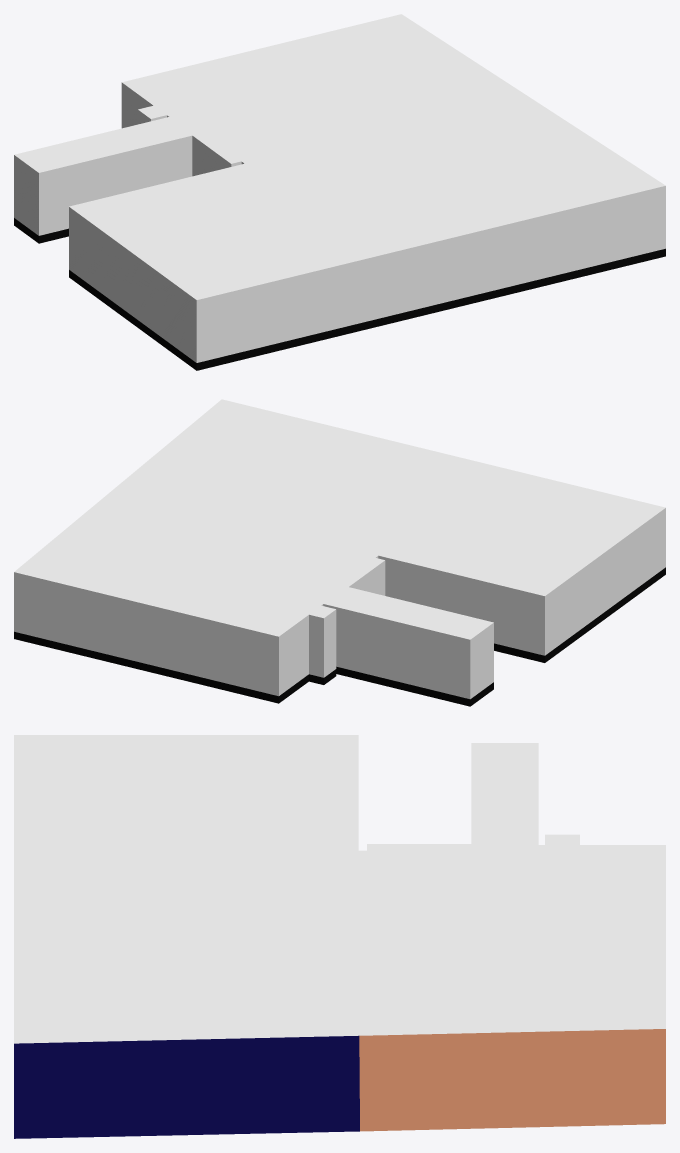
Rendered from Floor7.fbx.
The picture shows the model from 3 angles, top to bottom: view 1: azimuth 30°, elevation 25°; view 2: azimuth 150°, elevation 25°; view 3: azimuth 270°, elevation 25°; orthographic projection. The views are drawn at different scales.
Visible parts, largest first — view 1: Plane; view 2: Plane; view 3: Plane.
Boxes of the visible parts, x1=… form: Plane: x1=14, y1=14, x2=665, y2=370; Plane: x1=14, y1=399, x2=665, y2=706; Plane: x1=14, y1=735, x2=665, y2=1138.
Size of the model in its own units: 8908 by 1283 by 7957.
